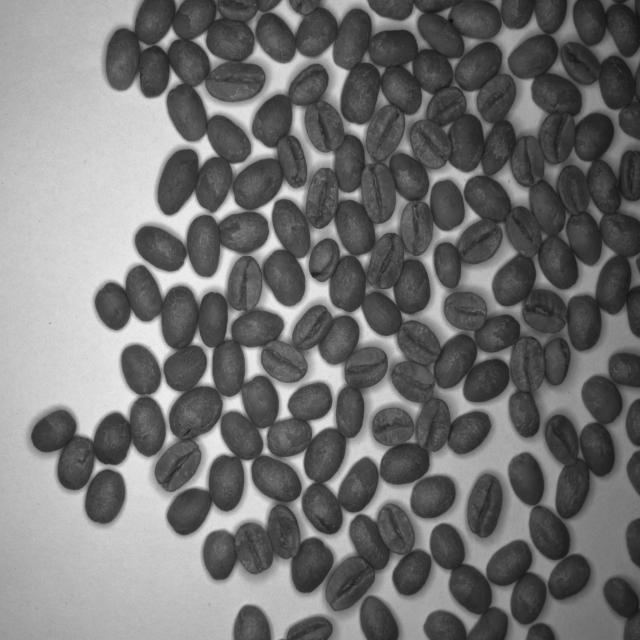bad: (60, 430, 97, 499), (268, 503, 304, 568)
good: (200, 101, 254, 169), (155, 141, 200, 217), (200, 57, 269, 106), (461, 470, 509, 539), (81, 466, 132, 530), (365, 20, 422, 76), (319, 556, 377, 610), (544, 553, 598, 611), (249, 6, 301, 66), (232, 152, 282, 214), (170, 386, 223, 444), (482, 534, 534, 593), (345, 514, 394, 576), (133, 221, 191, 272), (372, 495, 418, 558), (506, 447, 552, 510), (291, 5, 339, 65), (527, 75, 588, 122), (304, 422, 346, 490), (444, 560, 494, 617), (161, 84, 210, 142), (503, 568, 551, 627), (386, 252, 430, 316), (386, 143, 432, 203), (519, 284, 572, 336), (332, 199, 380, 256), (161, 282, 200, 352), (294, 538, 338, 600), (260, 249, 307, 307), (126, 396, 166, 464), (506, 332, 546, 400), (493, 249, 536, 312), (123, 264, 164, 330), (167, 481, 212, 541), (253, 89, 297, 150), (432, 331, 476, 392), (156, 435, 202, 493), (564, 205, 607, 267), (357, 160, 398, 225), (453, 39, 504, 91), (386, 356, 437, 408), (417, 6, 467, 59), (102, 24, 142, 90), (334, 6, 374, 72), (368, 96, 408, 162), (208, 453, 249, 517), (342, 61, 382, 126), (91, 277, 132, 340), (441, 278, 487, 334), (470, 72, 521, 122), (524, 504, 574, 555), (117, 343, 166, 395), (408, 116, 453, 172), (328, 256, 370, 316), (456, 219, 508, 267), (207, 16, 260, 63), (392, 548, 434, 607), (376, 443, 432, 487), (530, 180, 571, 240), (95, 410, 134, 473), (509, 34, 559, 83), (451, 408, 499, 459), (340, 341, 392, 388), (340, 455, 380, 516), (361, 287, 405, 342), (298, 481, 342, 536), (194, 155, 235, 214), (462, 173, 512, 221), (225, 254, 265, 314), (302, 98, 344, 155), (222, 407, 264, 464), (253, 452, 298, 505), (422, 521, 467, 574), (537, 110, 578, 168), (308, 163, 341, 234), (168, 36, 212, 89), (408, 474, 463, 516), (559, 39, 608, 86), (28, 408, 78, 454), (381, 60, 422, 116), (272, 130, 309, 192), (538, 236, 580, 290), (365, 229, 404, 287), (593, 254, 632, 312), (583, 376, 624, 431), (396, 318, 442, 367), (463, 358, 508, 408), (450, 110, 484, 176), (219, 209, 270, 253), (598, 54, 636, 113), (426, 177, 465, 234), (478, 120, 517, 177), (554, 462, 591, 522), (257, 340, 306, 385), (232, 520, 272, 575), (476, 311, 526, 355), (505, 206, 546, 259), (580, 419, 615, 481), (134, 0, 178, 49), (164, 343, 208, 392), (567, 292, 604, 350), (242, 376, 281, 431), (503, 390, 544, 442), (574, 111, 614, 164), (292, 305, 336, 353), (510, 130, 547, 187), (137, 43, 171, 104), (186, 215, 220, 276), (401, 200, 438, 256), (358, 595, 404, 640), (411, 45, 452, 95), (284, 382, 334, 423), (212, 337, 246, 397), (415, 396, 449, 456), (603, 206, 640, 261), (605, 3, 640, 61), (232, 311, 285, 349), (317, 314, 358, 363), (543, 336, 576, 396), (584, 159, 622, 211), (422, 84, 470, 125), (287, 63, 330, 108), (544, 409, 578, 465), (370, 405, 420, 443), (201, 290, 233, 349), (306, 234, 342, 286), (432, 240, 466, 294), (267, 418, 309, 461), (204, 530, 236, 586), (336, 131, 366, 190), (412, 607, 465, 640), (558, 162, 594, 210), (573, 0, 607, 49), (604, 347, 640, 393), (614, 148, 640, 210), (155, 68, 158, 72)
